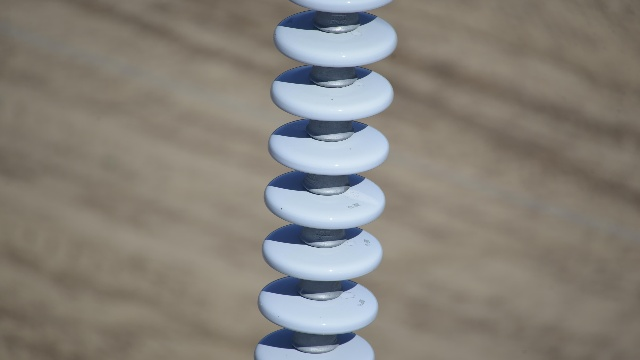insulator_unspecified: (250, 0, 400, 359)
pollution_flashover_local: (344, 187, 379, 208)
